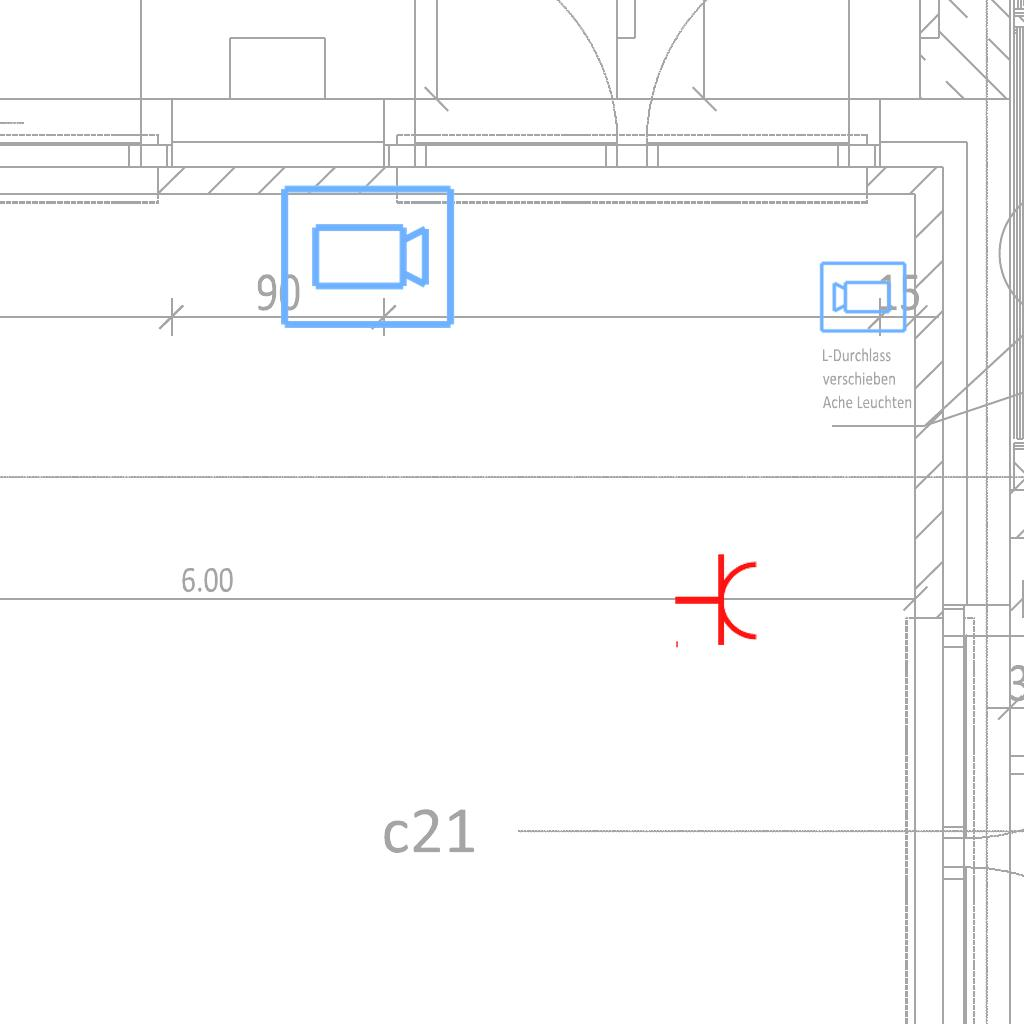KFO_Kamera_mit_Festobjektiv: (276, 181, 458, 335), (818, 258, 909, 335)
Schukosteckdose_einfach: (673, 552, 760, 652)
